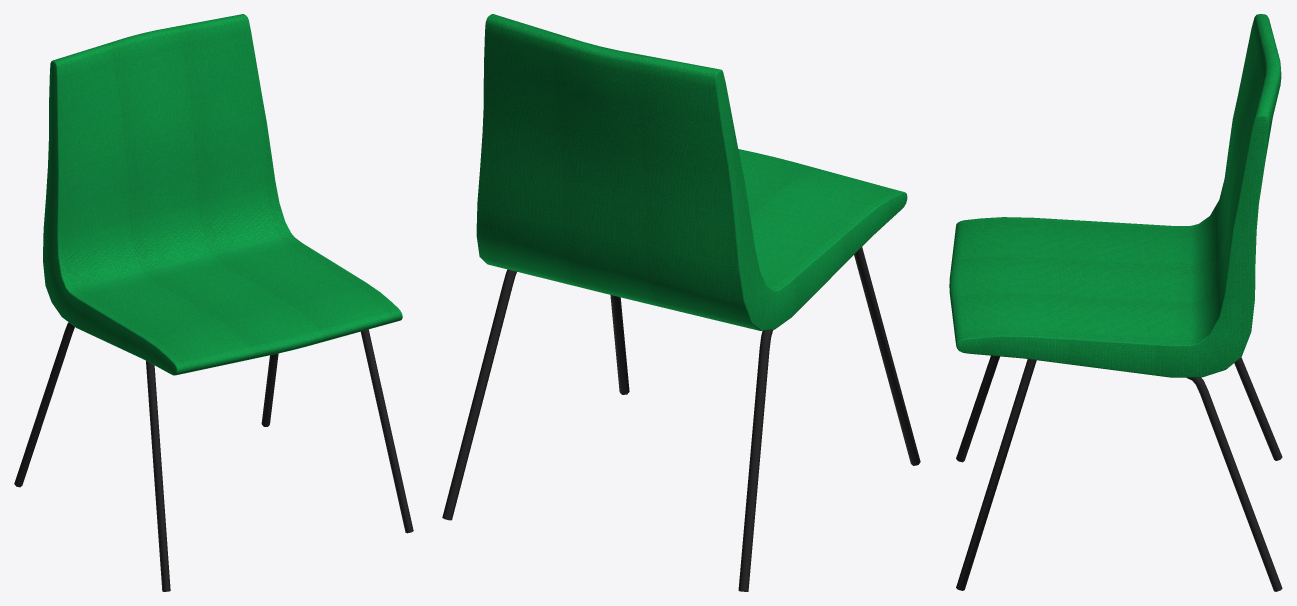
Rendered from chair.dae.
The picture shows the model from 3 angles, left to right: view 1: azimuth 30°, elevation 25°; view 2: azimuth 150°, elevation 25°; view 3: azimuth 270°, elevation 25°; orthographic projection. The views are drawn at different scales.
Parts seen in each view (by area): view 1: _0k4g, _0k4g_leg; view 2: _0k4g, _0k4g_leg; view 3: _0k4g, _0k4g_leg.
Boxes of the visible parts, <box> form: _0k4g: <box>43,14,402,375</box>; _0k4g_leg: <box>14,322,413,591</box>; _0k4g: <box>476,14,907,330</box>; _0k4g_leg: <box>442,247,920,591</box>; _0k4g: <box>949,14,1281,377</box>; _0k4g_leg: <box>956,355,1282,591</box>.
Size of the model in its own units: 0.5238 by 0.5469 by 0.8353.
